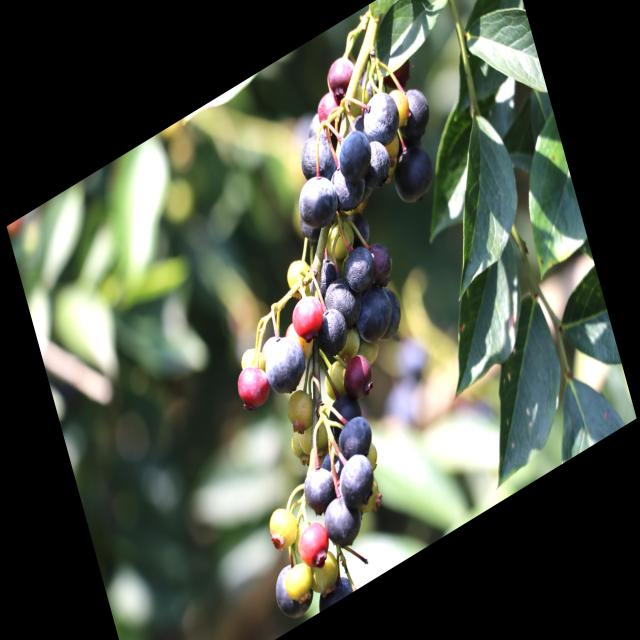blueberry: (260, 324, 312, 406), (290, 162, 342, 234), (388, 136, 439, 209), (268, 551, 316, 626), (350, 282, 398, 349), (357, 82, 404, 150), (321, 265, 366, 335), (336, 446, 380, 514), (390, 79, 434, 146), (320, 486, 364, 552), (332, 120, 375, 183), (371, 278, 410, 346), (296, 120, 338, 183), (328, 154, 369, 216), (314, 296, 354, 359), (339, 239, 380, 299), (298, 459, 338, 520), (336, 411, 377, 469), (323, 389, 363, 443), (358, 133, 394, 191), (366, 235, 396, 289)
blueberry-halfripe: (232, 358, 274, 422), (322, 46, 364, 108), (287, 288, 327, 348), (338, 348, 378, 408), (293, 516, 332, 572), (313, 89, 342, 134)
blueberry-unripe: (262, 494, 305, 557), (302, 543, 346, 601), (281, 382, 319, 438), (320, 211, 356, 262), (298, 410, 332, 457), (282, 254, 314, 302), (283, 558, 316, 602), (320, 359, 349, 403), (389, 84, 412, 124)
